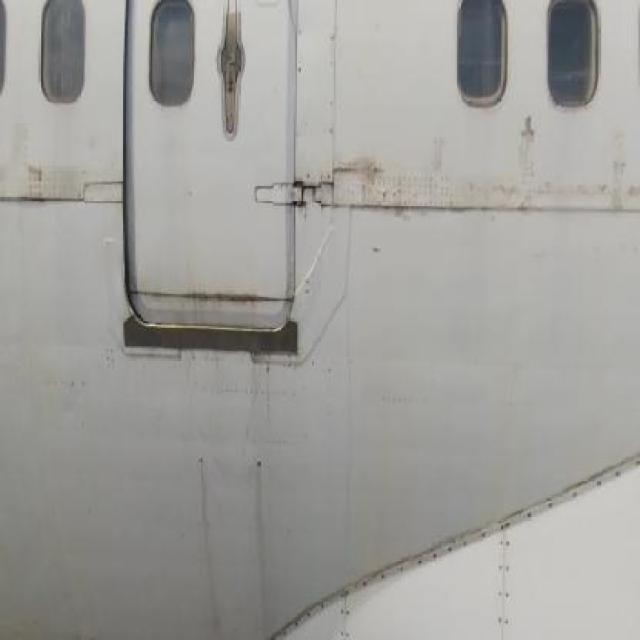Missing-Rivet: (371, 522, 483, 600), (532, 442, 633, 526), (491, 508, 517, 634), (335, 598, 356, 640)
Rust: (251, 456, 280, 622), (196, 454, 224, 620), (176, 284, 275, 318), (342, 148, 392, 206), (22, 157, 52, 211)
Scartch: (510, 108, 548, 177), (606, 142, 639, 209)
